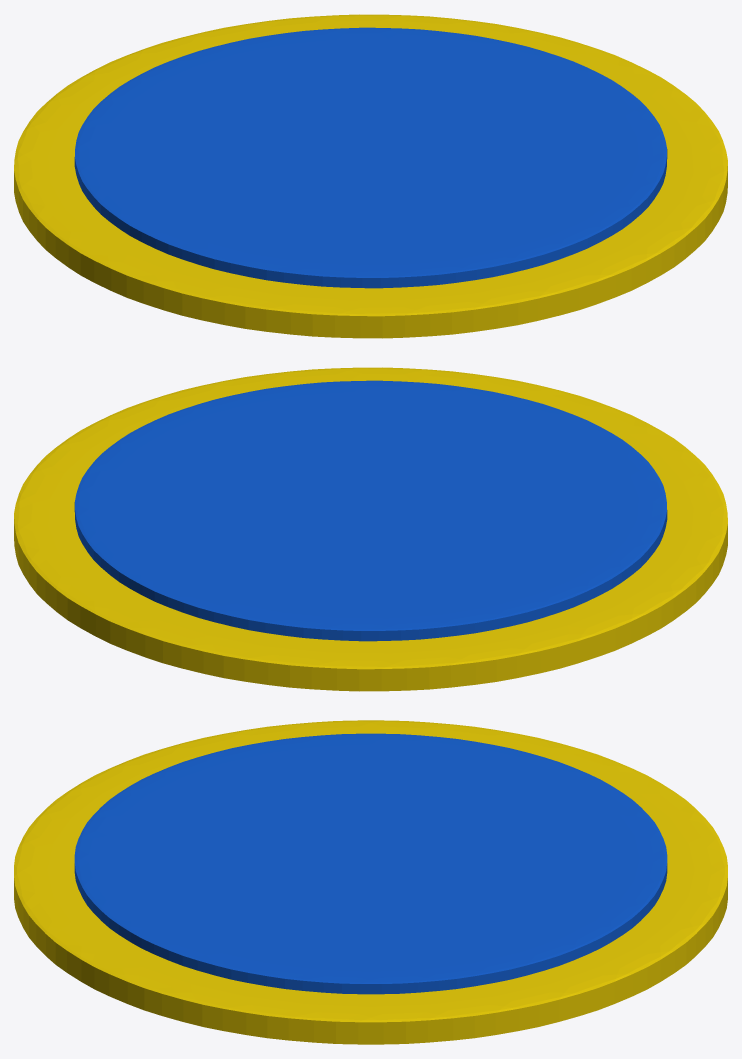
3 views of the same model, one above another, from view 1: azimuth 30°, elevation 25°; view 2: azimuth 150°, elevation 25°; view 3: azimuth 270°, elevation 25° (orthographic).
Parts seen in each view (by area): view 1: node, nodeBase; view 2: node, nodeBase; view 3: node, nodeBase.
Boxes of the visible parts, x1,y1,x2,y2 form: node: (74,27,667,288); nodeBase: (14,14,727,338); node: (74,380,667,641); nodeBase: (14,367,727,691); node: (74,733,667,994); nodeBase: (14,720,727,1044).
Size of the model in its own units: 166 by 9.35 by 166.
